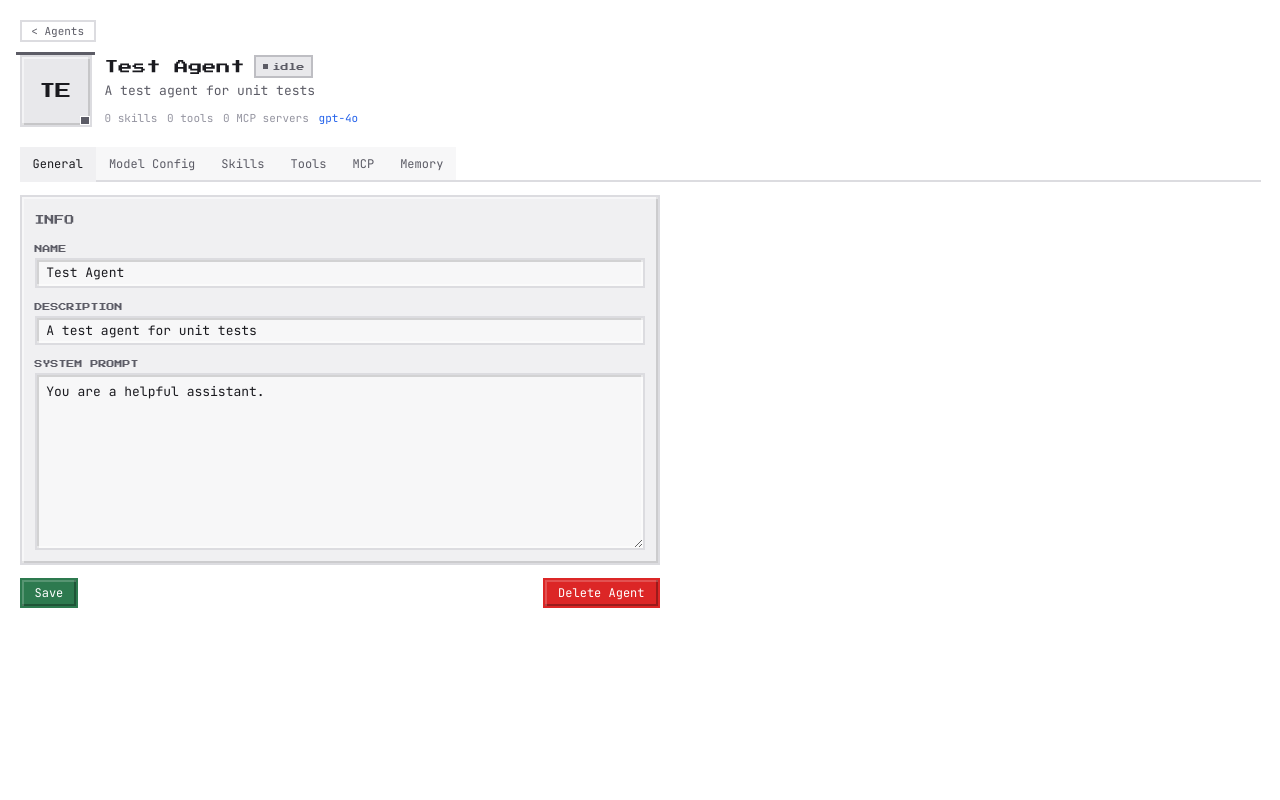
AgentDetailPage › renders Model Config tab with MODEL CONFIG section
The width and height of the screenshot is (1280, 800).
Click the button "Model Config" at (152, 164), box [96,147,208,182]
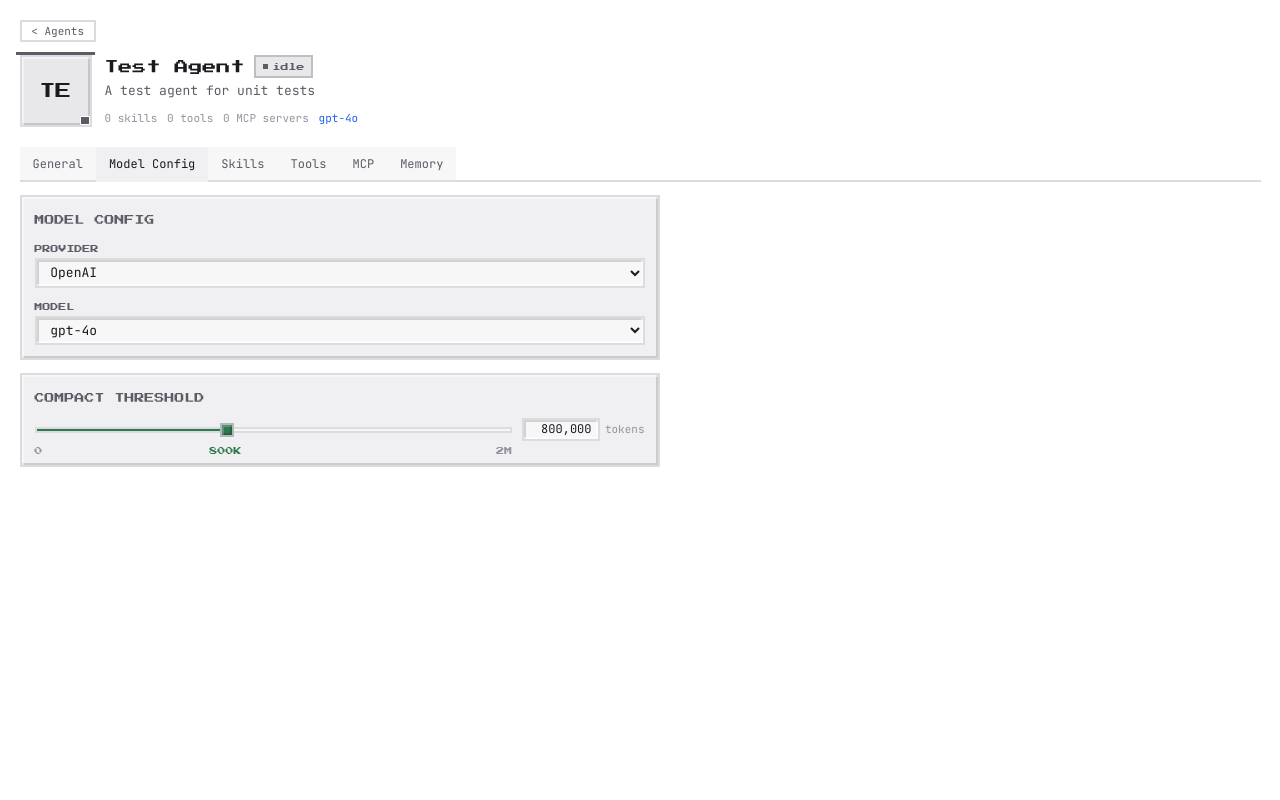
Check: the text "MODEL CONFIG" is shown, box [34,215,154,225]
